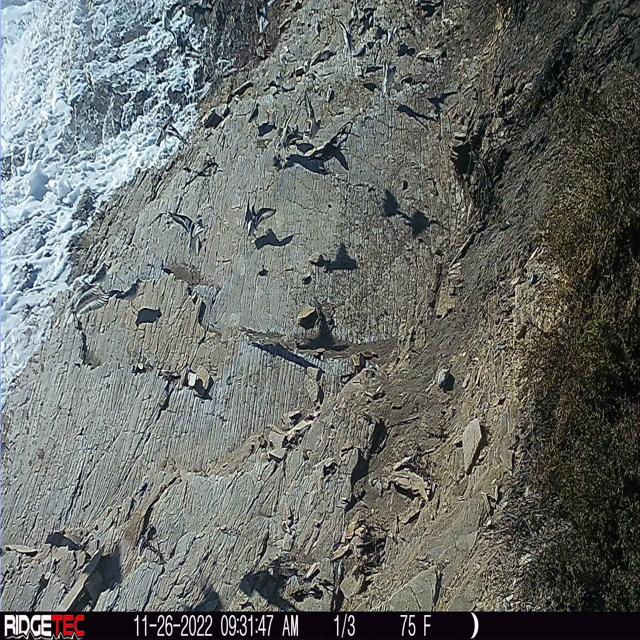bird: (196, 74, 338, 161)
